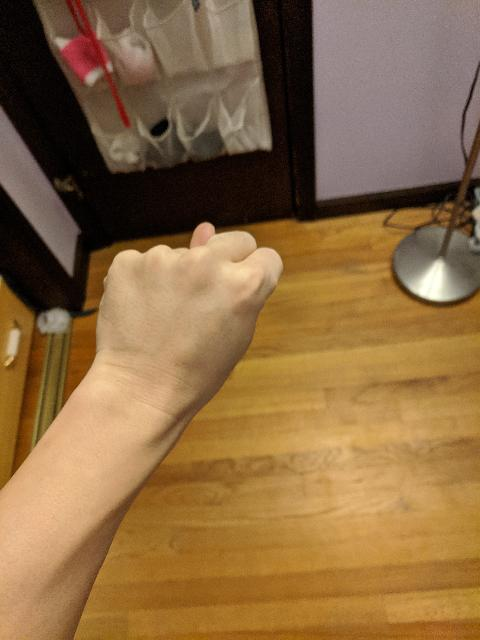N: (90, 216, 287, 414)
